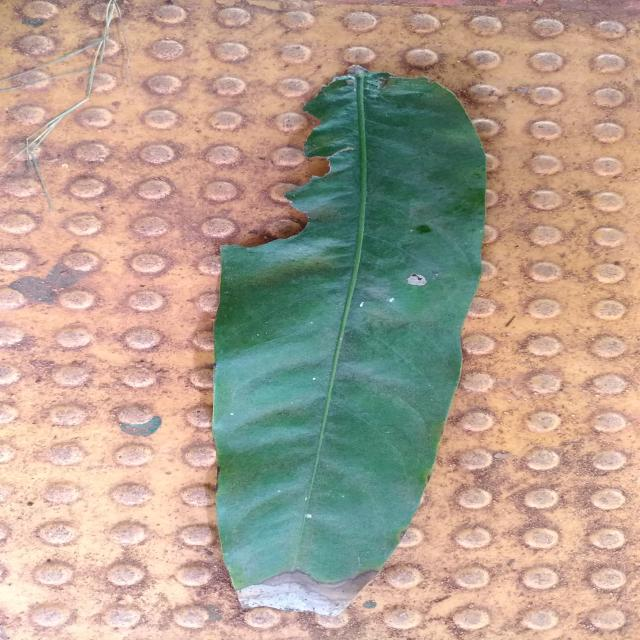seethaashoka: (213, 68, 487, 590)
